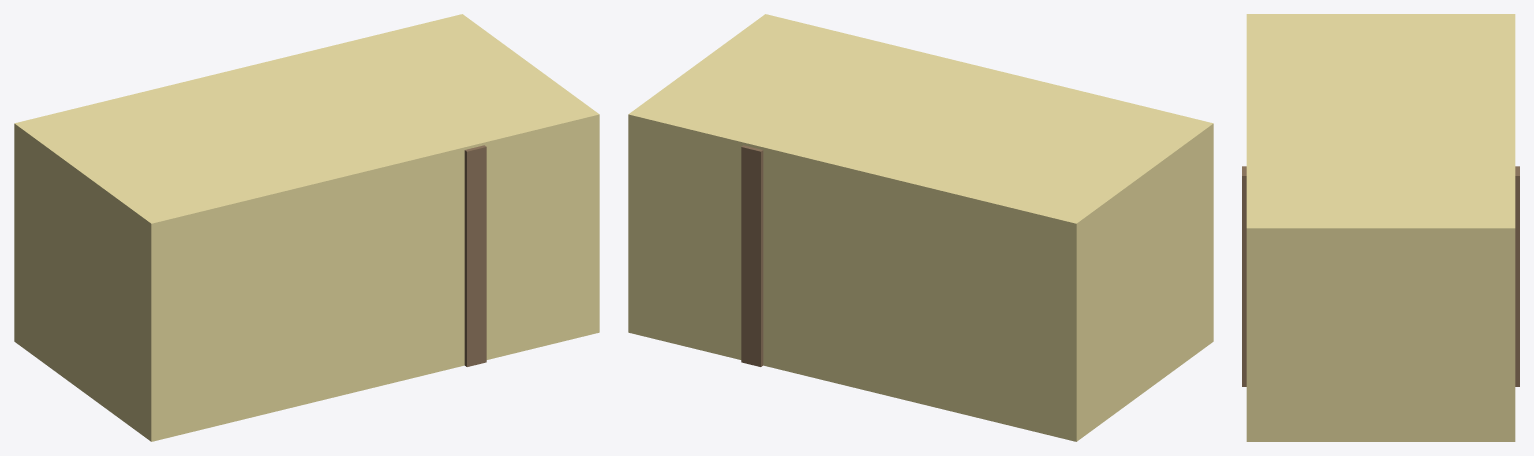
Rendered from Prop_Live_AMF_HayBale_V5.glb.
The picture shows the model from 3 angles, left to right: view 1: azimuth 30°, elevation 25°; view 2: azimuth 150°, elevation 25°; view 3: azimuth 270°, elevation 25°; orthographic projection. The views are drawn at different scales.
Visible parts, largest first — view 1: Prop_Live_AMF_HayBale_V5; view 2: Prop_Live_AMF_HayBale_V5; view 3: Prop_Live_AMF_HayBale_V5.
Part boxes in pixels (left/top/right/bottom): Prop_Live_AMF_HayBale_V5: left=14, top=14, right=599, bottom=441; Prop_Live_AMF_HayBale_V5: left=628, top=14, right=1213, bottom=441; Prop_Live_AMF_HayBale_V5: left=1242, top=14, right=1519, bottom=441.
Bounding box in the file's own units: 1.13 × 0.5265 × 0.62.
